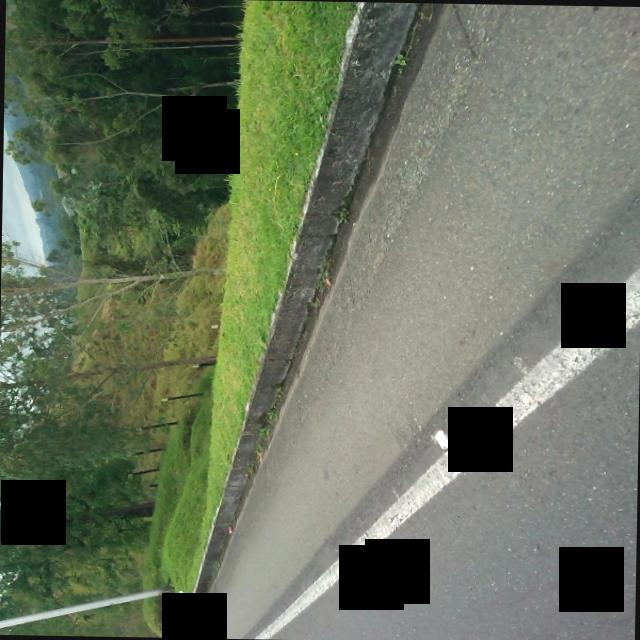DITCH: (187, 0, 640, 640), (225, 378, 638, 616)
